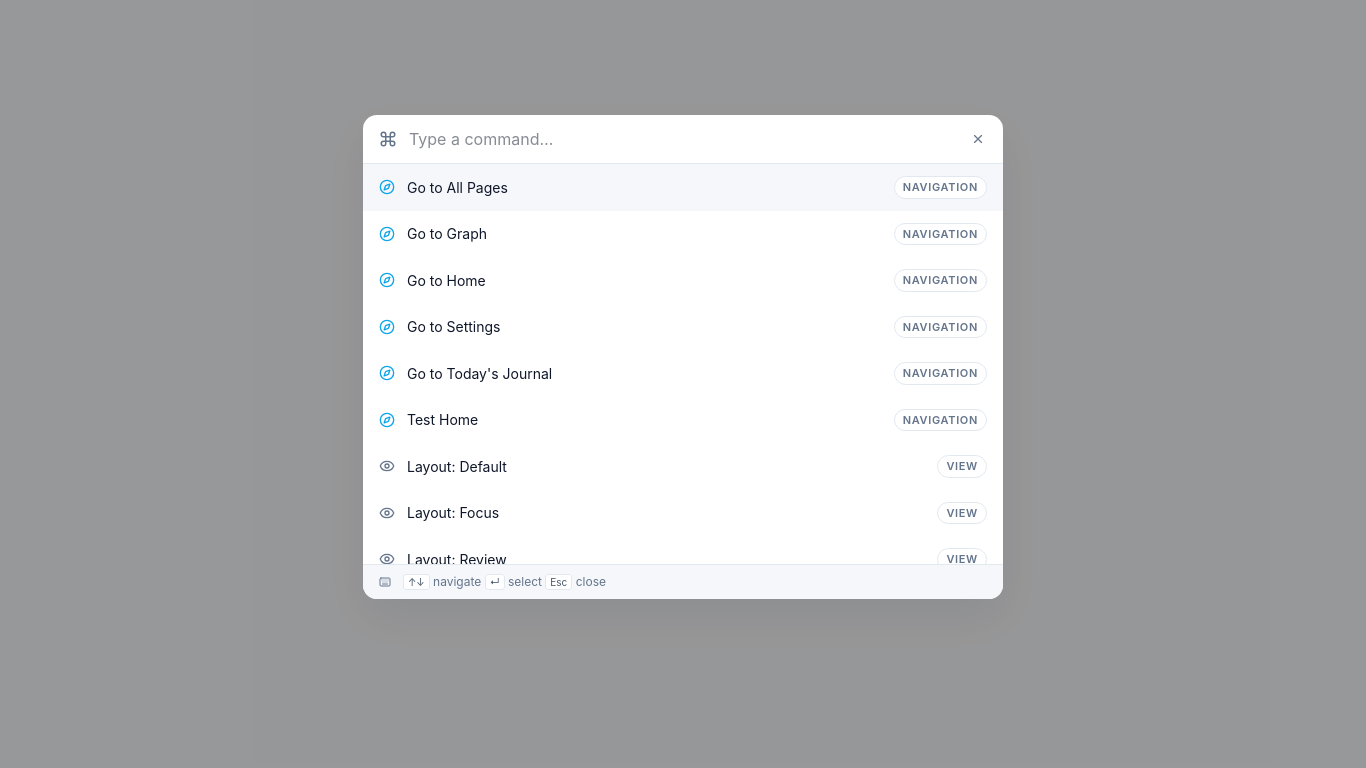
Test case: CommandCenter › shows an empty state when no command matches the query
The width and height of the screenshot is (1366, 768).
Type "zzzz-no-match" into the field with placeholder "Type a command…" at (683, 139), box left=409, top=127, right=957, bottom=151
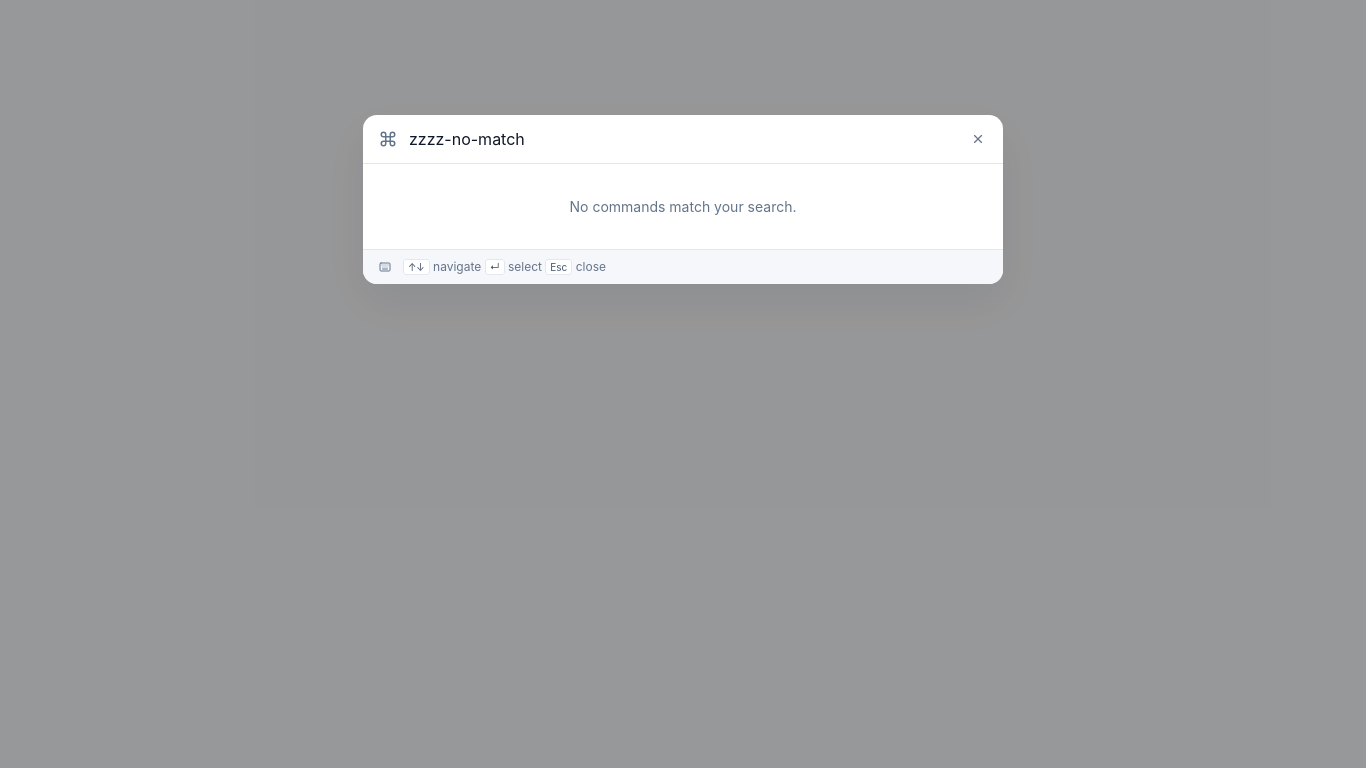
expect the text "No commands match your search." is shown: met, box left=570, top=198, right=796, bottom=215
